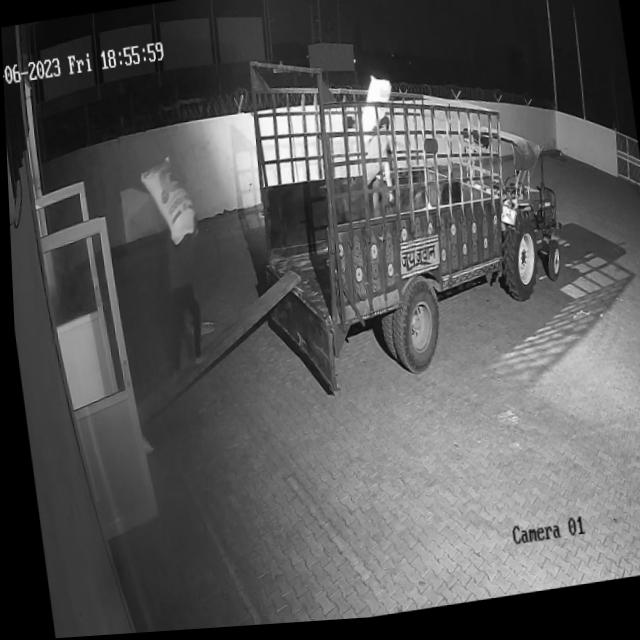sack: (136, 154, 196, 251)
